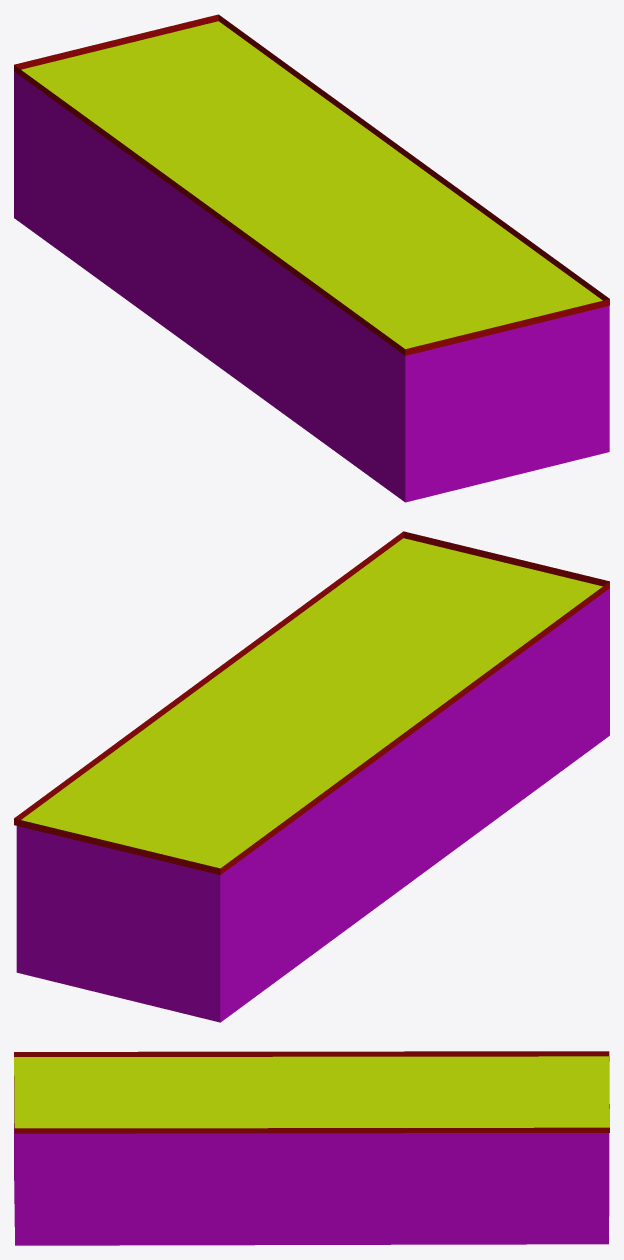
The picture shows the model from 3 angles, top to bottom: view 1: azimuth 30°, elevation 25°; view 2: azimuth 150°, elevation 25°; view 3: azimuth 270°, elevation 25°; orthographic projection. The views are drawn at different scales.
Parts seen in each view (by area): view 1: sc_77; view 2: sc_77; view 3: sc_77.
Part boxes in pixels (x1,y1,x2,y2): sc_77: (14, 14, 609, 502); sc_77: (14, 531, 609, 1022); sc_77: (14, 1051, 609, 1245).
Size of the model in its own units: 11.22 by 7.94 by 36.58.
